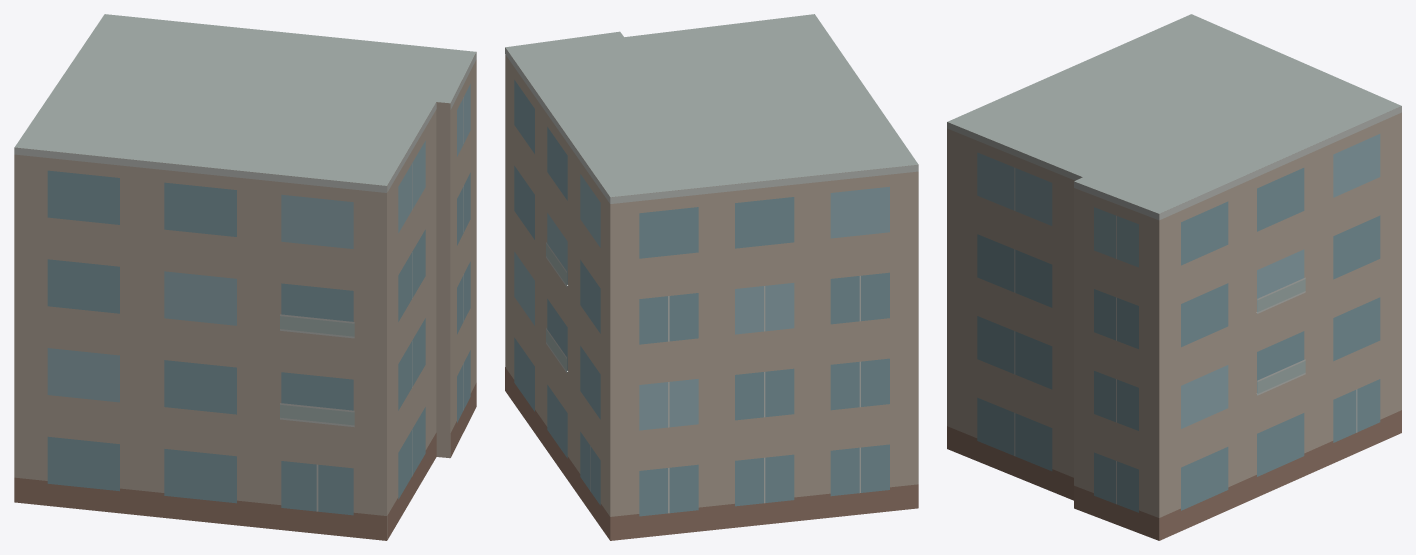
Rendered from survey-upis-32705421.glb.
3 views of the same model, side by side, from view 1: azimuth 30°, elevation 25°; view 2: azimuth 150°, elevation 25°; view 3: azimuth 270°, elevation 25° (orthographic). The views are drawn at different scales.
Visible parts, largest first — view 1: survey-upis-32705421.tmp; view 2: survey-upis-32705421.tmp; view 3: survey-upis-32705421.tmp.
Part boxes in pixels (bbox=[...]): survey-upis-32705421.tmp: bbox=[14, 14, 476, 540]; survey-upis-32705421.tmp: bbox=[505, 14, 918, 540]; survey-upis-32705421.tmp: bbox=[947, 14, 1401, 540].
Size of the model in its own units: 16 by 12.2 by 15.38.
